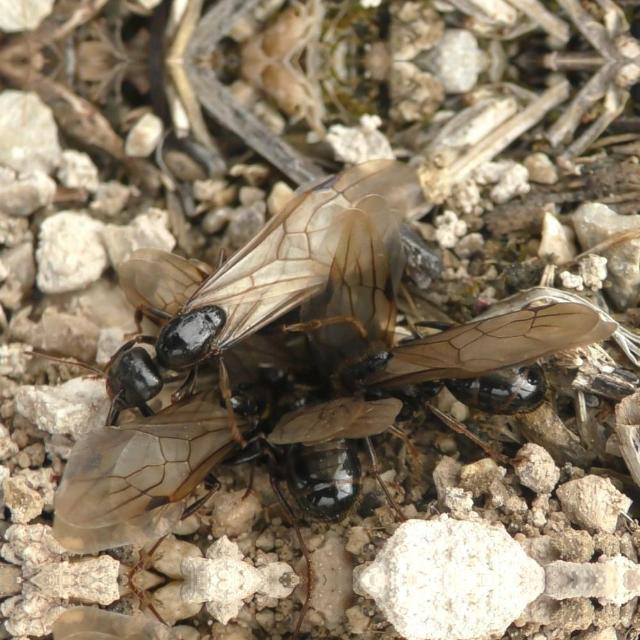Messor: (56, 182, 422, 404)
